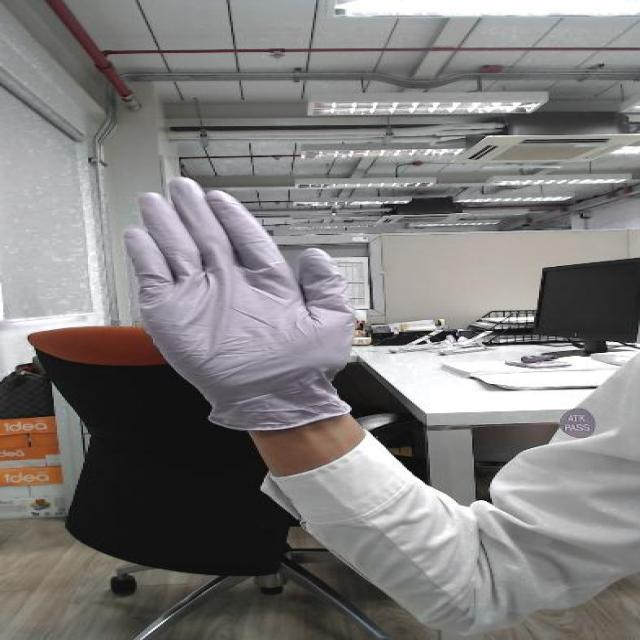with_gloves: (114, 167, 383, 366)
